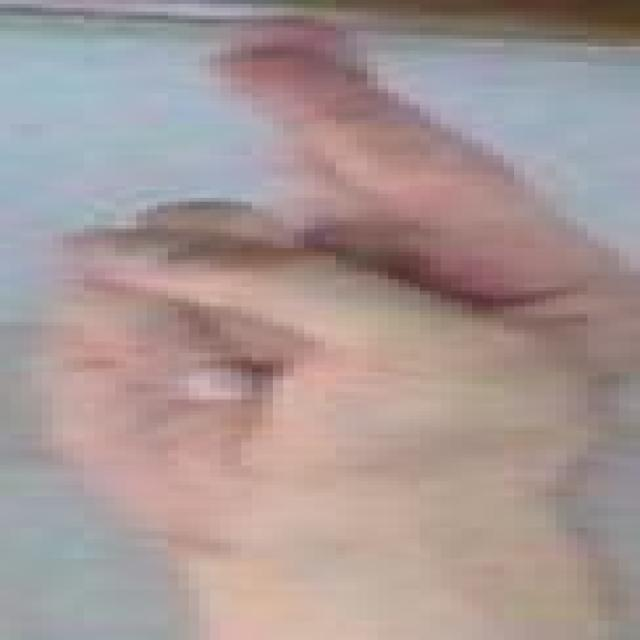R: (14, 11, 640, 570)
